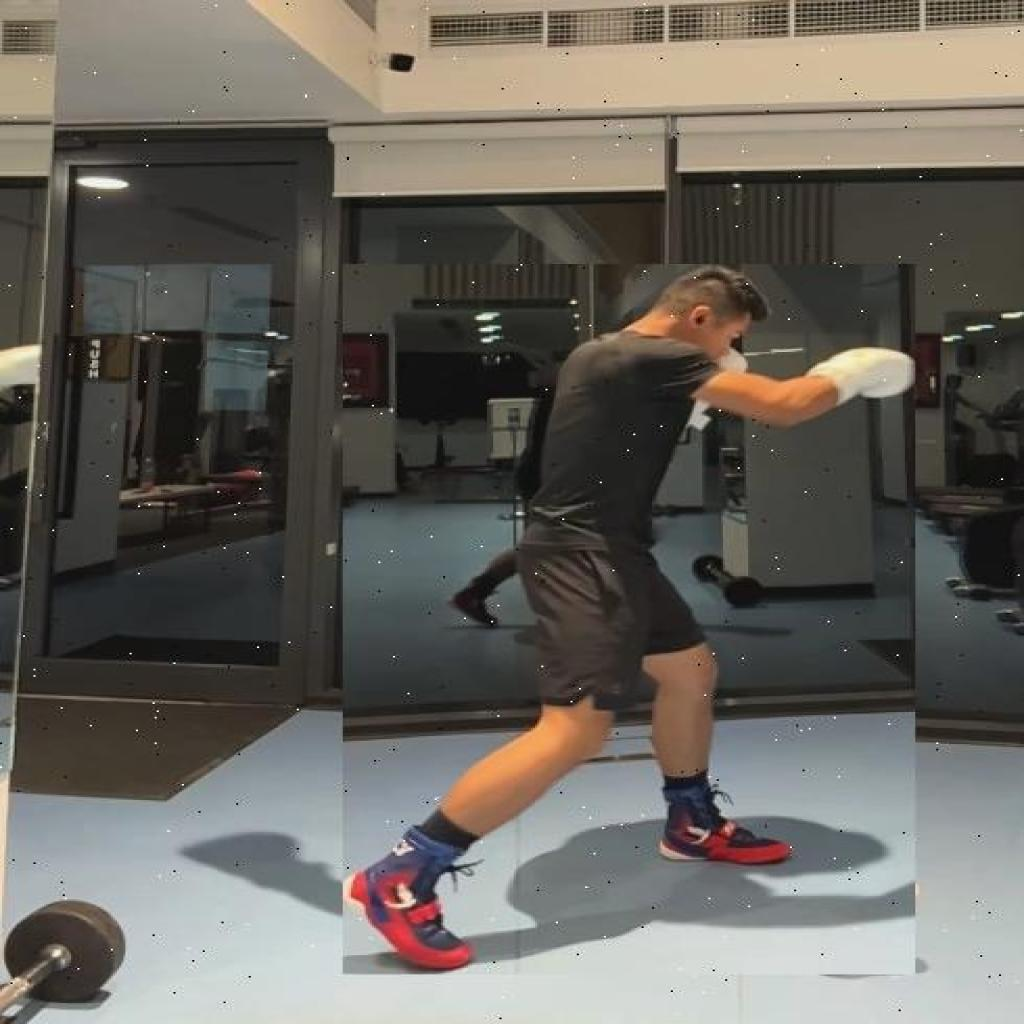cross: (343, 264, 916, 974)
